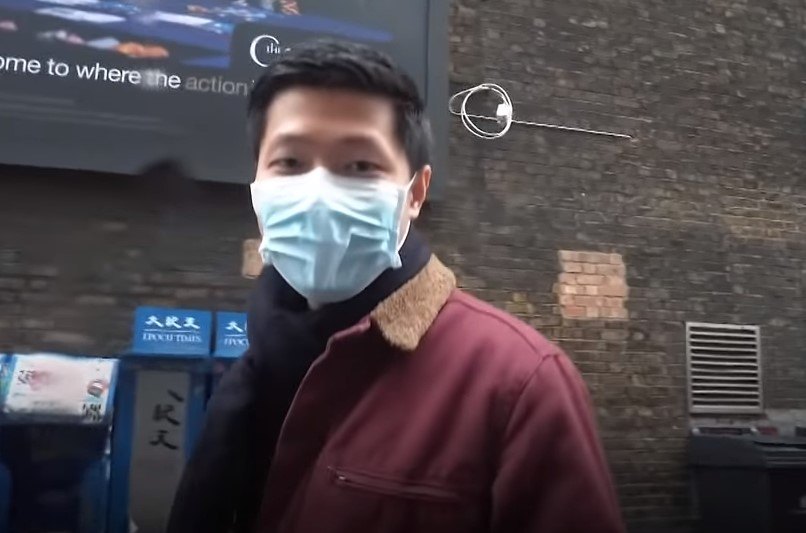face_with_mask: (246, 49, 433, 308)
